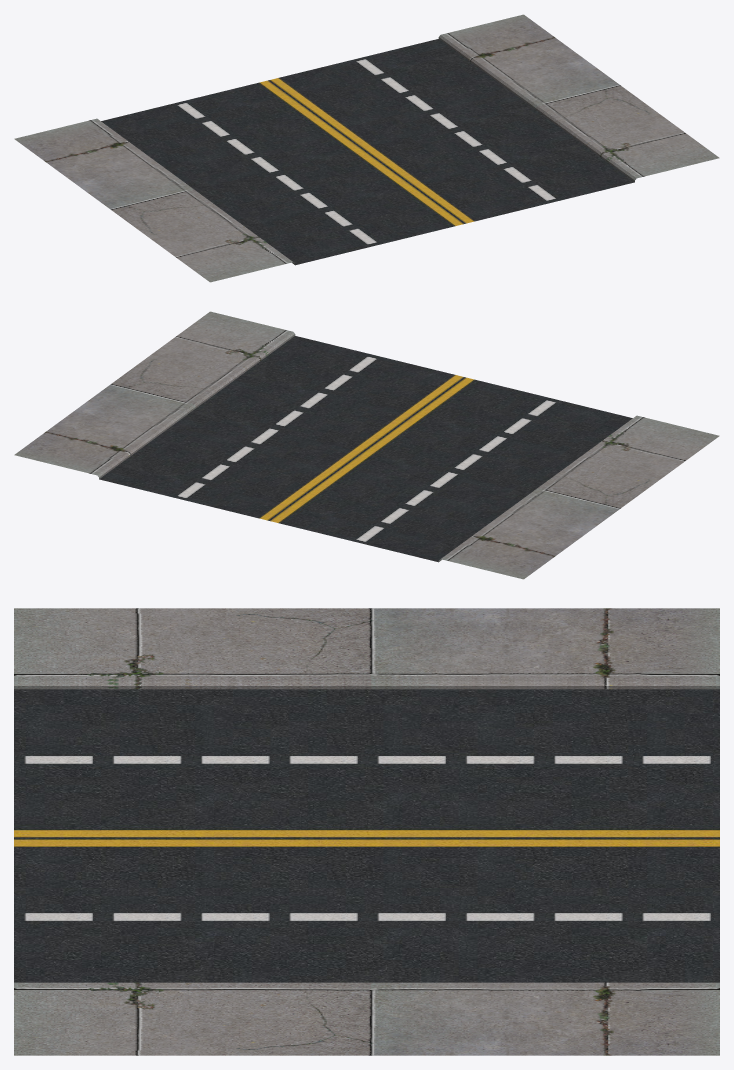
File: straight_road_sidewalk_tile.obj
3 renders of one model, top to bottom at view 1: azimuth 30°, elevation 25°; view 2: azimuth 150°, elevation 25°; view 3: azimuth 270°, elevation 25°, orthographic. The views are drawn at different scales.
Parts seen in each view (by area): view 1: ROAD_TILE_Plane.009; view 2: ROAD_TILE_Plane.009; view 3: ROAD_TILE_Plane.009.
Part boxes in pixels (x1,y1,x2,y2): ROAD_TILE_Plane.009: [14, 14, 719, 282]; ROAD_TILE_Plane.009: [14, 311, 719, 579]; ROAD_TILE_Plane.009: [14, 608, 719, 1055].
Bounding box in the file's own units: 30 × 0.2 × 20.
2 materials, 2 textured.
